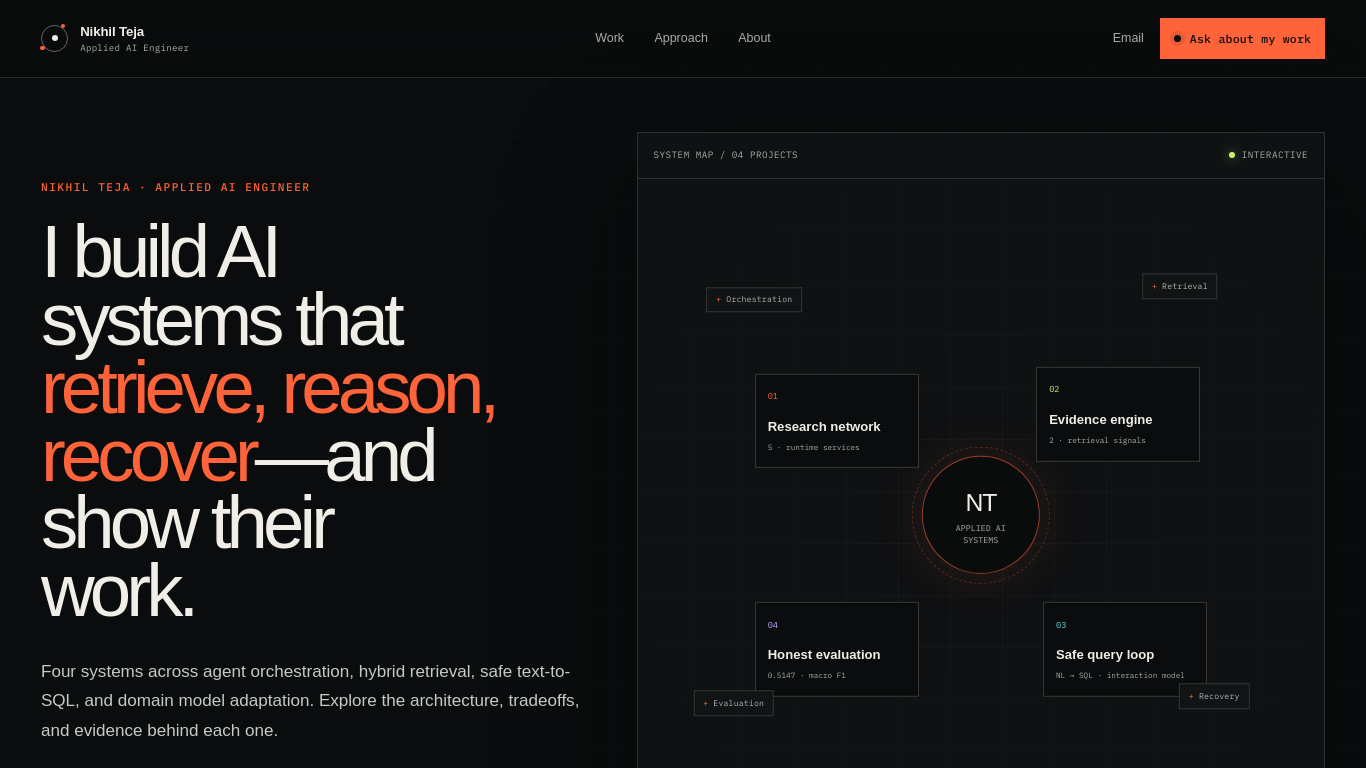
Scenario: portfolio experience › opens the grounded portfolio agent and renders approved evidence links
Click the button "Ask about my work" at (1242, 38), box [1160,18,1325,59]
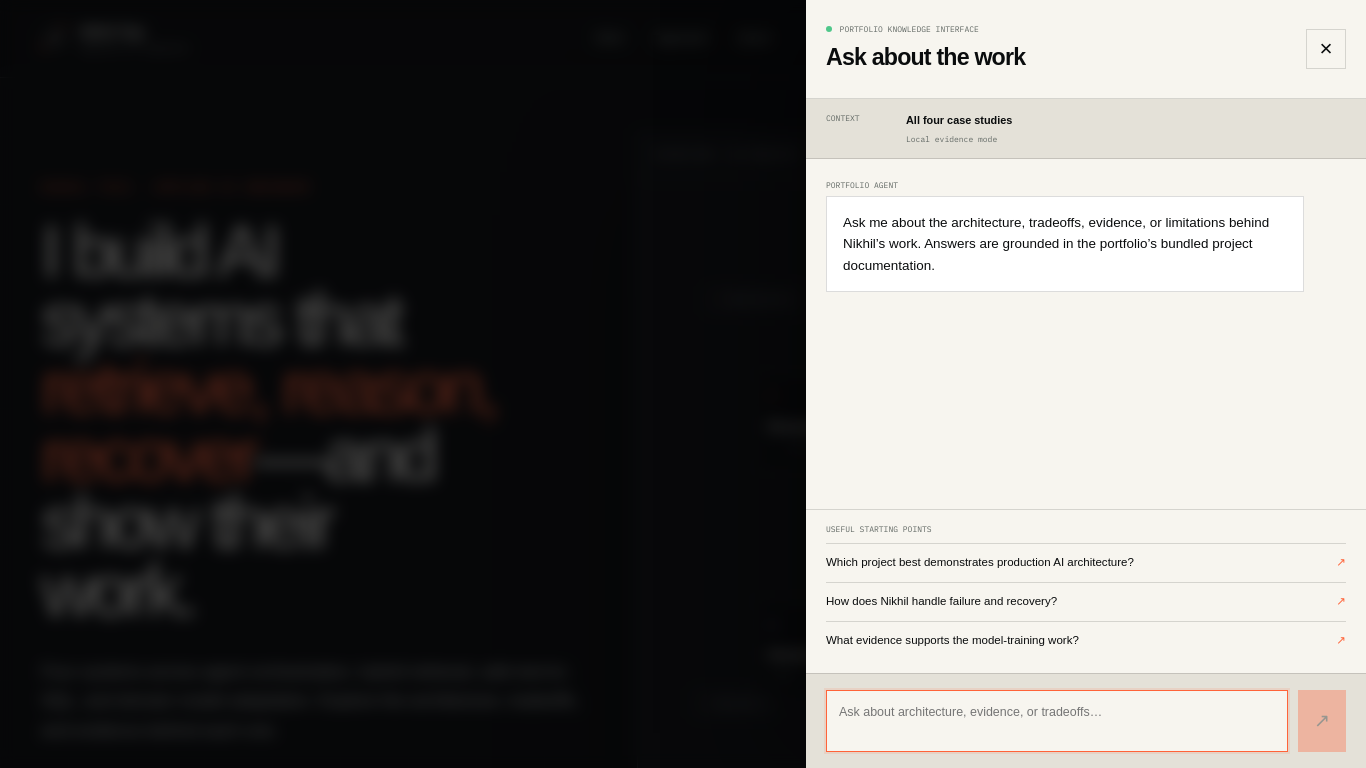
Result: the dialog "Ask about the work" is shown at [806,0,1365,767]
Type "How is SQL kept safe?" into the text box with placeholder "Ask about architecture, evidence, or tradeoffs…" at (1057, 721), box [826,690,1288,752]
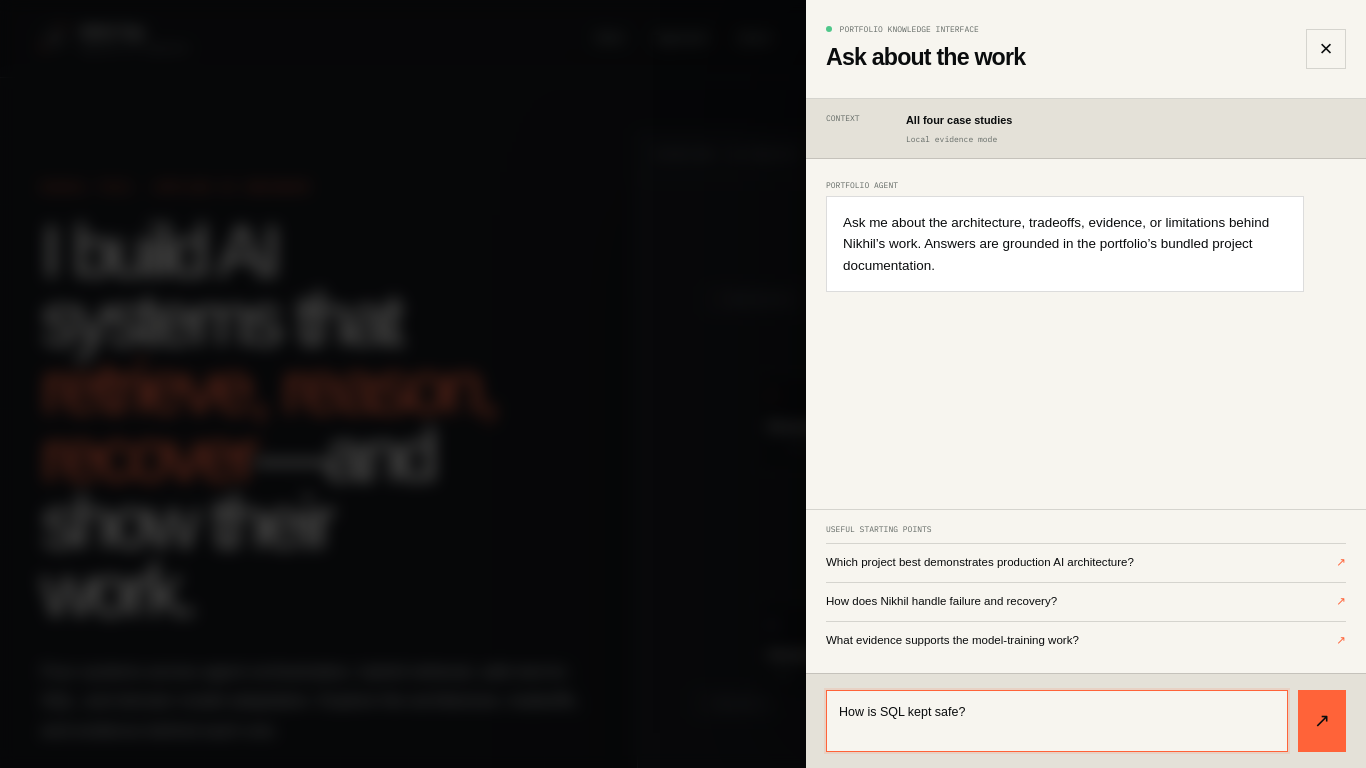
Click the button named "Send question" at (1322, 721), box [1298,690,1346,752]
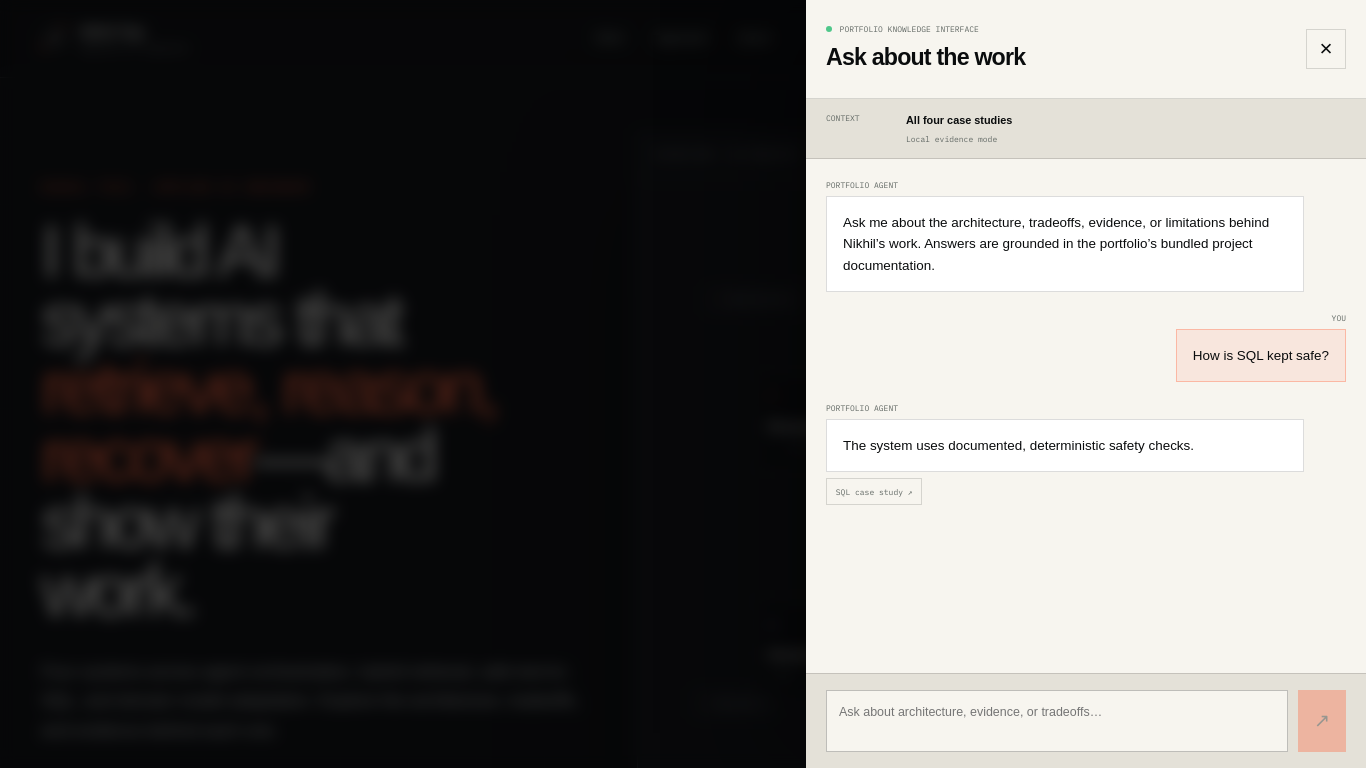
Result: the text "The system uses documented, deterministic safety checks." is shown at [826,419,1304,472]
